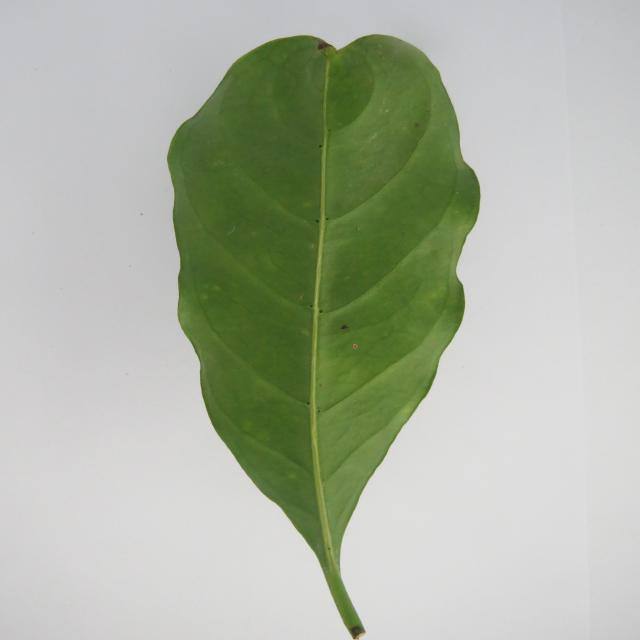DeficienciaNutricional-Boro: (168, 35, 478, 639)
